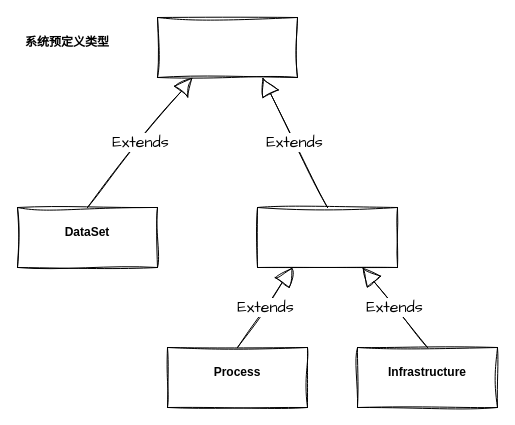
Some shapes in this 515 by 425 pixel diagram are drawn without their labels. The shapes that lost their labels are listed below. From the top down, each one's centre as x and y in pixels, then its label:
At (x=227, y=47): "Referenceable".
At (x=327, y=237): "Asset".
